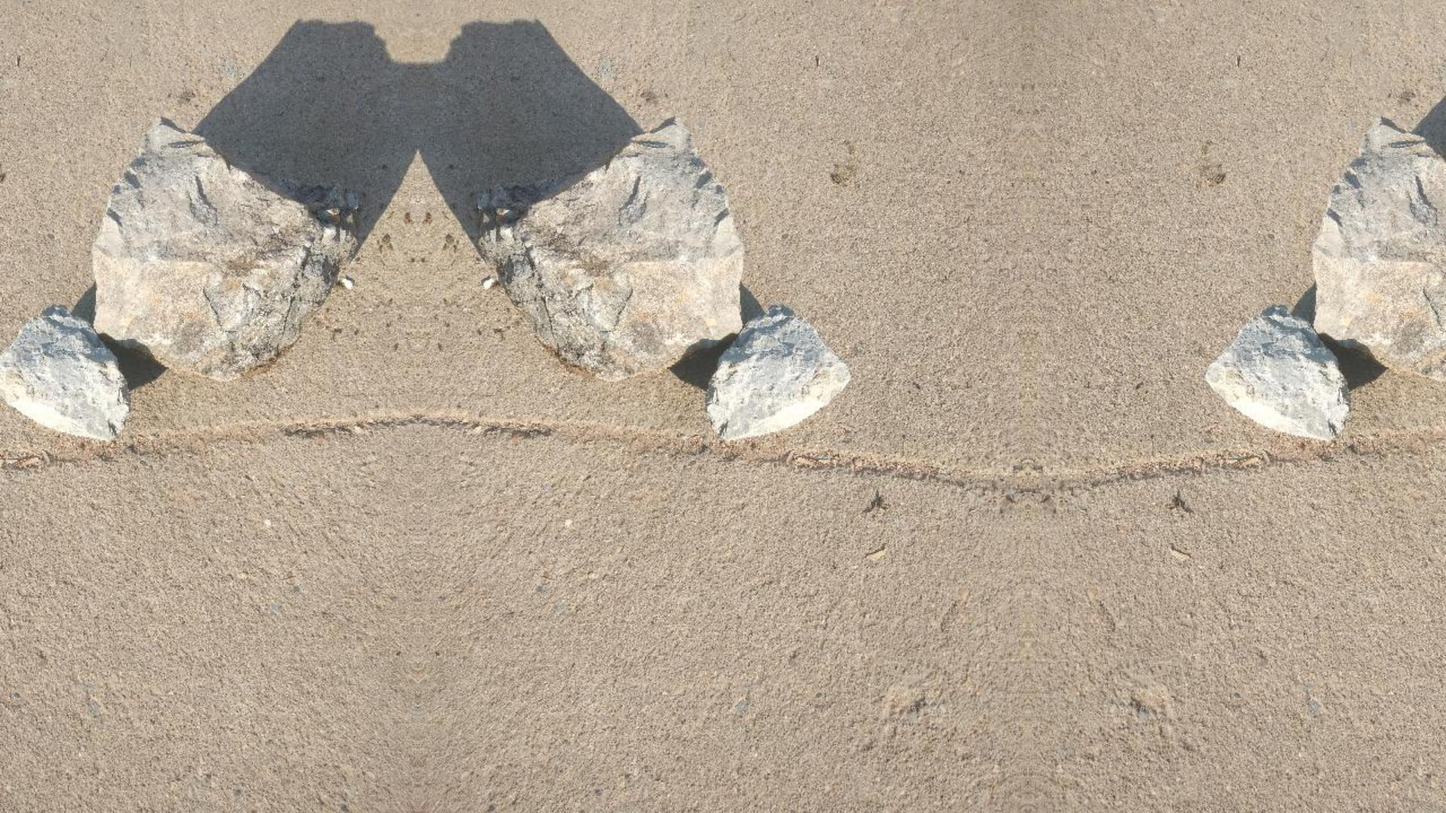rock: (93, 119, 355, 378), (479, 120, 742, 378), (1313, 119, 1445, 379), (1205, 305, 1348, 439), (706, 305, 848, 439), (0, 306, 129, 439)
